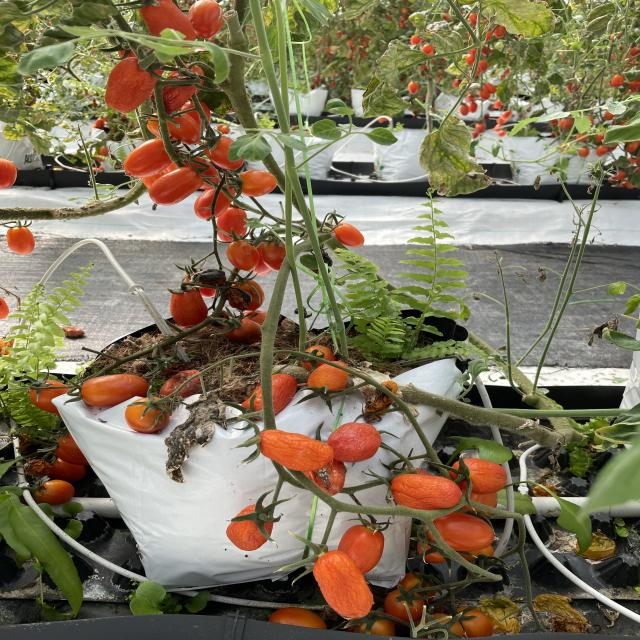Soilbag: (53, 314, 468, 588)
Tomato: (104, 4, 286, 278), (242, 365, 311, 421)
plant: (73, 6, 364, 362)
